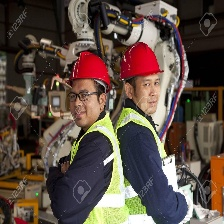helmet: (119, 42, 167, 85), (64, 50, 113, 92)
person: (46, 46, 120, 224), (114, 40, 183, 224)
